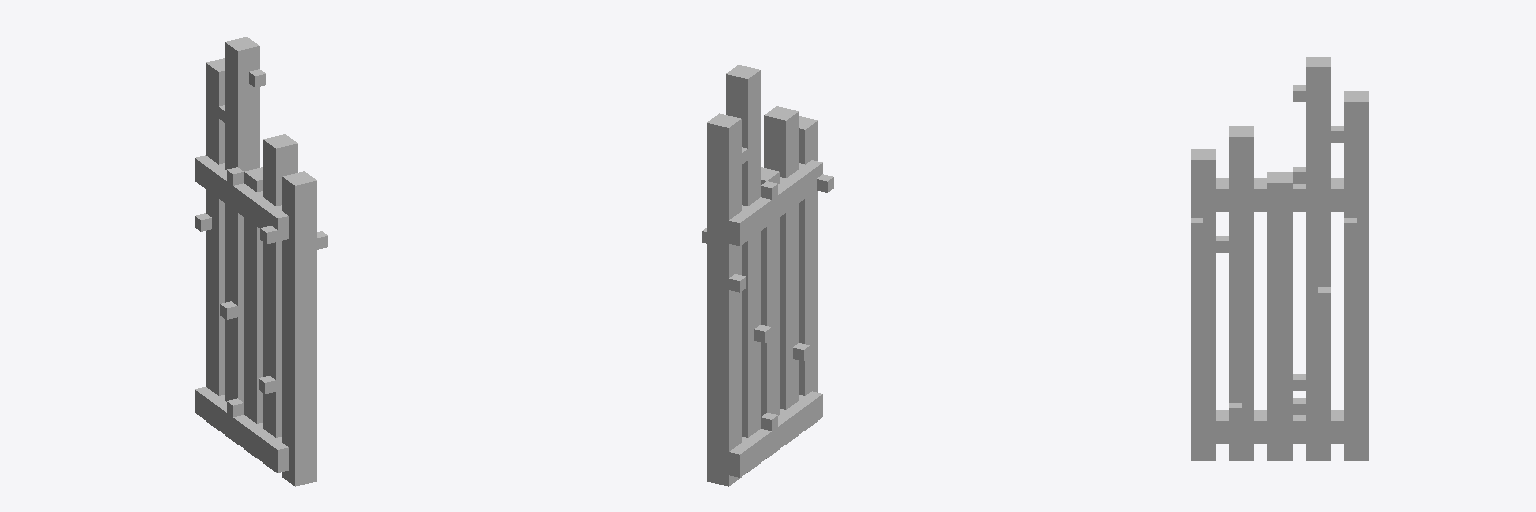
The model's file is japaneseGateDoor-0.obj.
3 views of the same model, side by side, from view 1: azimuth 30°, elevation 25°; view 2: azimuth 150°, elevation 25°; view 3: azimuth 270°, elevation 25° (orthographic).
Parts seen in each view (by area): view 1: object 1; view 2: object 1; view 3: object 1.
Boxes of the visible parts, <box> form: object 1: <box>195,37,327,486</box>; object 1: <box>702,65,833,486</box>; object 1: <box>1191,57,1368,460</box>.
Bounding box in the file's own units: 0.5 × 3.4 × 1.4.